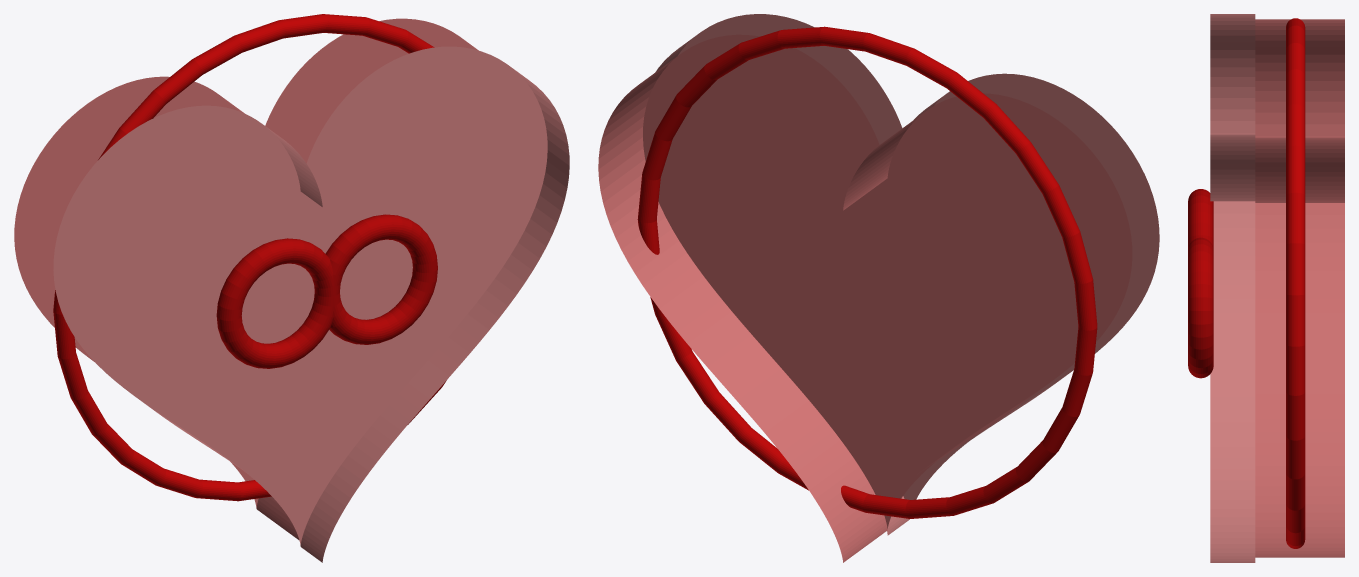
Rendered from true_heart_gift_box_openable.glb.
The picture shows the model from 3 angles, left to right: view 1: azimuth 30°, elevation 25°; view 2: azimuth 150°, elevation 25°; view 3: azimuth 270°, elevation 25°; orthographic projection.
Visible parts, largest first — view 1: heart_lid, heart_base, world, ribbon; view 2: heart_base, ribbon, heart_lid; view 3: heart_base, heart_lid, ribbon, world.
Boxes of the visible parts, box(x1,y1,x2,y2) form: heart_lid: box(53, 46, 569, 562); heart_base: box(14, 18, 478, 539); world: box(216, 214, 437, 368); ribbon: box(53, 14, 446, 501); heart_base: box(598, 34, 1132, 562); ribbon: box(637, 26, 1097, 518); heart_lid: box(655, 14, 1159, 535); heart_base: box(1255, 19, 1344, 557); heart_lid: box(1210, 14, 1255, 562); ribbon: box(1286, 18, 1305, 548); world: box(1188, 189, 1213, 378).
Bounding box in the file's own units: 1.81 × 1.79 × 0.49.
